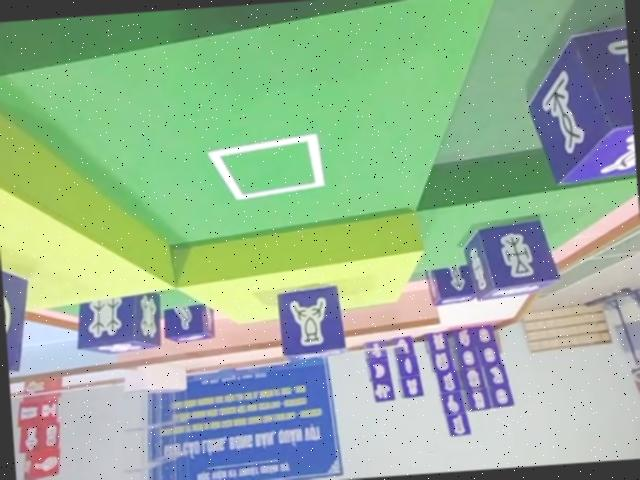R2 Real Blue: (522, 17, 637, 183), (462, 215, 561, 300), (73, 291, 164, 358), (278, 282, 350, 361), (0, 239, 32, 374), (420, 253, 477, 308), (160, 302, 217, 346)
